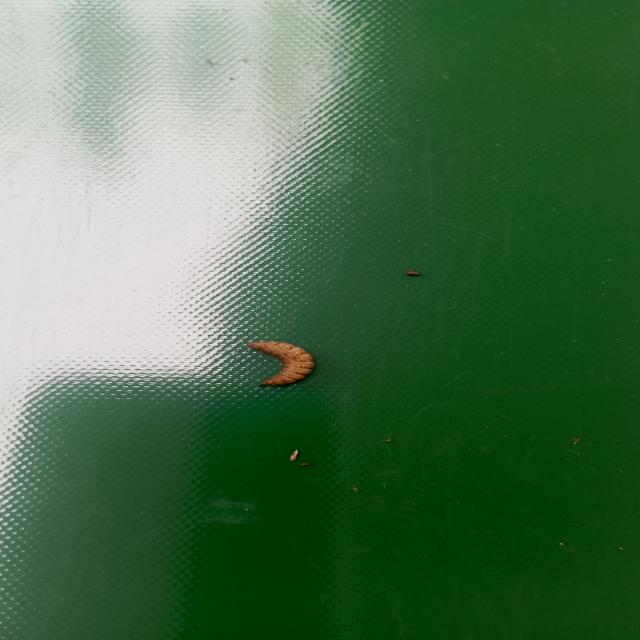Maggot: (250, 341, 318, 388)
